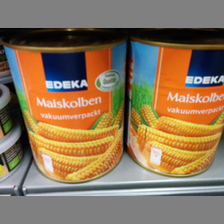corn: (2, 31, 128, 183), (126, 37, 224, 179)
